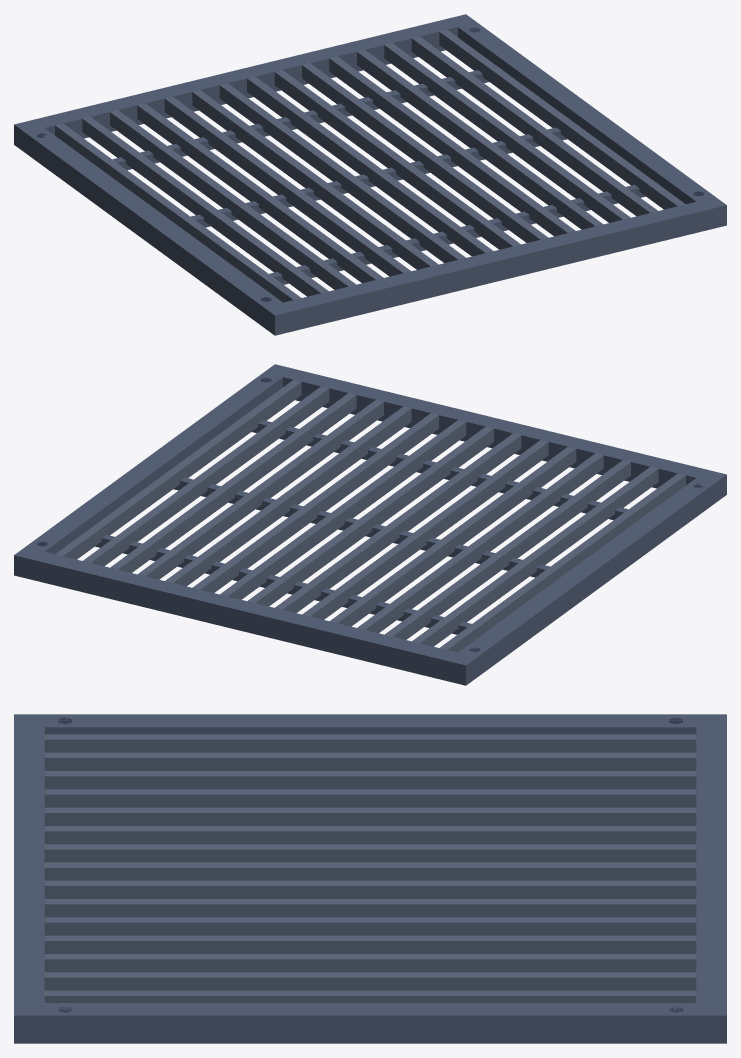
The model's file is res_floor_drain_grate.glb.
3 renders of one model, top to bottom at view 1: azimuth 30°, elevation 25°; view 2: azimuth 150°, elevation 25°; view 3: azimuth 270°, elevation 25°, orthographic. The views are drawn at different scales.
Visible parts, largest first — view 1: drain_bar, cross_support; view 2: drain_bar, cross_support; view 3: drain_bar, cross_support.
Part boxes in pixels (x1=…): drain_bar: x1=55, y1=29, x2=685, y2=302; cross_support: x1=14, y1=14, x2=726, y2=335; drain_bar: x1=55, y1=379, x2=685, y2=652; cross_support: x1=14, y1=364, x2=726, y2=685; drain_bar: x1=44, y1=734, x2=696, y2=1002; cross_support: x1=14, y1=714, x2=726, y2=1043.
Size of the model in its own units: 1.4 by 0.06 by 1.4.
